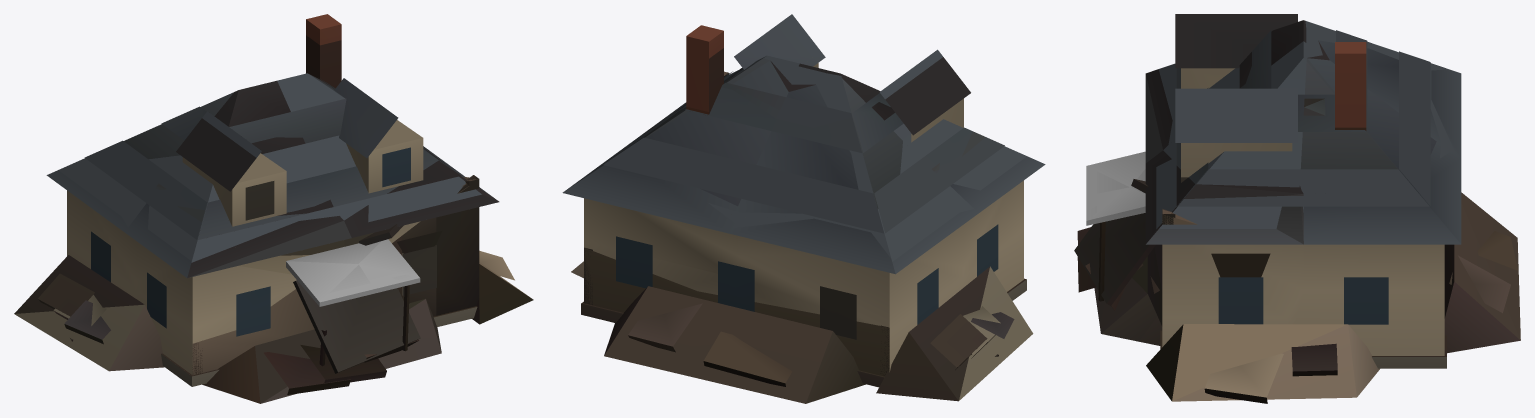
The model's file is bld_any_house_b_fractured.glb.
The picture shows the model from 3 angles, left to right: view 1: azimuth 30°, elevation 25°; view 2: azimuth 150°, elevation 25°; view 3: azimuth 270°, elevation 25°; orthographic projection. The views are drawn at different scales.
Parts seen in each view (by area): view 1: bld_any_house_b_DMG_mesh, bld_any_house_b_RUIN_LOD0_mesh, bld_any_house_b_FRAC_10_mesh, bld_any_house_b_FRAC_08_mesh, bld_any_house_b_RUIN_LOD1_mesh, bld_any_house_b_FRAC_04_mesh, bld_any_house_b_FRAC_05_mesh, bld_any_house_b_FRAC_06_mesh, bld_any_house_b_FRAC_09_mesh, bld_any_house_b_FRAC_11_mesh; view 2: bld_any_house_b_DMG_mesh, bld_any_house_b_RUIN_LOD0_mesh, bld_any_house_b_FRAC_09_mesh, bld_any_house_b_RUIN_LOD1_mesh, bld_any_house_b_FRAC_11_mesh, bld_any_house_b_FRAC_05_mesh, bld_any_house_b_FRAC_08_mesh, bld_any_house_b_FRAC_10_mesh, bld_any_house_b_FRAC_04_mesh, bld_any_house_b_FRAC_07_mesh; view 3: bld_any_house_b_DMG_mesh, bld_any_house_b_RUIN_LOD0_mesh, bld_any_house_b_FRAC_10_mesh, bld_any_house_b_FRAC_11_mesh, bld_any_house_b_FRAC_06_mesh, bld_any_house_b_FRAC_09_mesh, bld_any_house_b_RUIN_LOD1_mesh, bld_any_house_b_FRAC_07_mesh, bld_any_house_b_FRAC_08_mesh, bld_any_house_b_FRAC_04_mesh, bld_any_house_b_FRAC_05_mesh.
Part boxes in pixels (bbox=[...]): bld_any_house_b_DMG_mesh: bbox=[46, 24, 499, 386]; bld_any_house_b_RUIN_LOD0_mesh: bbox=[14, 35, 533, 403]; bld_any_house_b_FRAC_10_mesh: bbox=[277, 73, 438, 220]; bld_any_house_b_FRAC_08_mesh: bbox=[154, 111, 334, 222]; bld_any_house_b_RUIN_LOD1_mesh: bbox=[53, 175, 478, 403]; bld_any_house_b_FRAC_04_mesh: bbox=[146, 194, 370, 292]; bld_any_house_b_FRAC_05_mesh: bbox=[58, 153, 154, 227]; bld_any_house_b_FRAC_06_mesh: bbox=[368, 147, 481, 281]; bld_any_house_b_FRAC_09_mesh: bbox=[118, 106, 206, 182]; bld_any_house_b_FRAC_11_mesh: bbox=[306, 14, 340, 88]; bld_any_house_b_DMG_mesh: bbox=[562, 36, 1045, 371]; bld_any_house_b_RUIN_LOD0_mesh: bbox=[571, 48, 1033, 403]; bld_any_house_b_FRAC_09_mesh: bbox=[736, 72, 930, 219]; bld_any_house_b_RUIN_LOD1_mesh: bbox=[584, 71, 1000, 399]; bld_any_house_b_FRAC_11_mesh: bbox=[621, 25, 797, 198]; bld_any_house_b_FRAC_05_mesh: bbox=[733, 174, 974, 261]; bld_any_house_b_FRAC_08_mesh: bbox=[797, 49, 972, 174]; bld_any_house_b_FRAC_10_mesh: bbox=[679, 14, 825, 109]; bld_any_house_b_FRAC_04_mesh: bbox=[942, 140, 1026, 190]; bld_any_house_b_FRAC_07_mesh: bbox=[603, 116, 737, 222]; bld_any_house_b_DMG_mesh: bbox=[1086, 14, 1461, 368]; bld_any_house_b_RUIN_LOD0_mesh: bbox=[1074, 127, 1520, 403]; bld_any_house_b_FRAC_10_mesh: bbox=[1163, 41, 1309, 187]; bld_any_house_b_FRAC_11_mesh: bbox=[1300, 42, 1430, 193]; bld_any_house_b_FRAC_06_mesh: bbox=[1086, 159, 1303, 228]; bld_any_house_b_FRAC_09_mesh: bbox=[1307, 21, 1447, 147]; bld_any_house_b_RUIN_LOD1_mesh: bbox=[1077, 179, 1197, 345]; bld_any_house_b_FRAC_07_mesh: bbox=[1303, 144, 1451, 206]; bld_any_house_b_FRAC_08_mesh: bbox=[1174, 21, 1311, 138]; bld_any_house_b_FRAC_04_mesh: bbox=[1096, 63, 1180, 193]; bld_any_house_b_FRAC_05_mesh: bbox=[1412, 56, 1455, 153].
Bounding box in the file's own units: 14.48 × 8.81 × 12.03.
